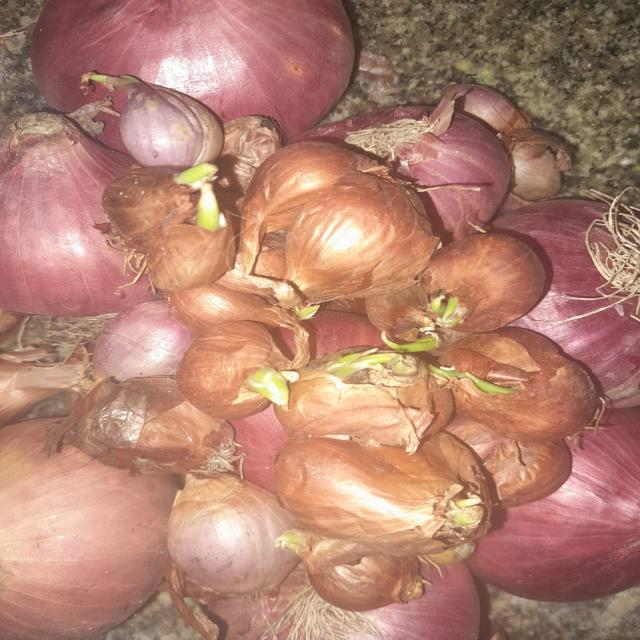sprouting: (398, 302, 486, 404), (176, 161, 232, 235), (328, 346, 401, 386), (260, 362, 290, 414)
